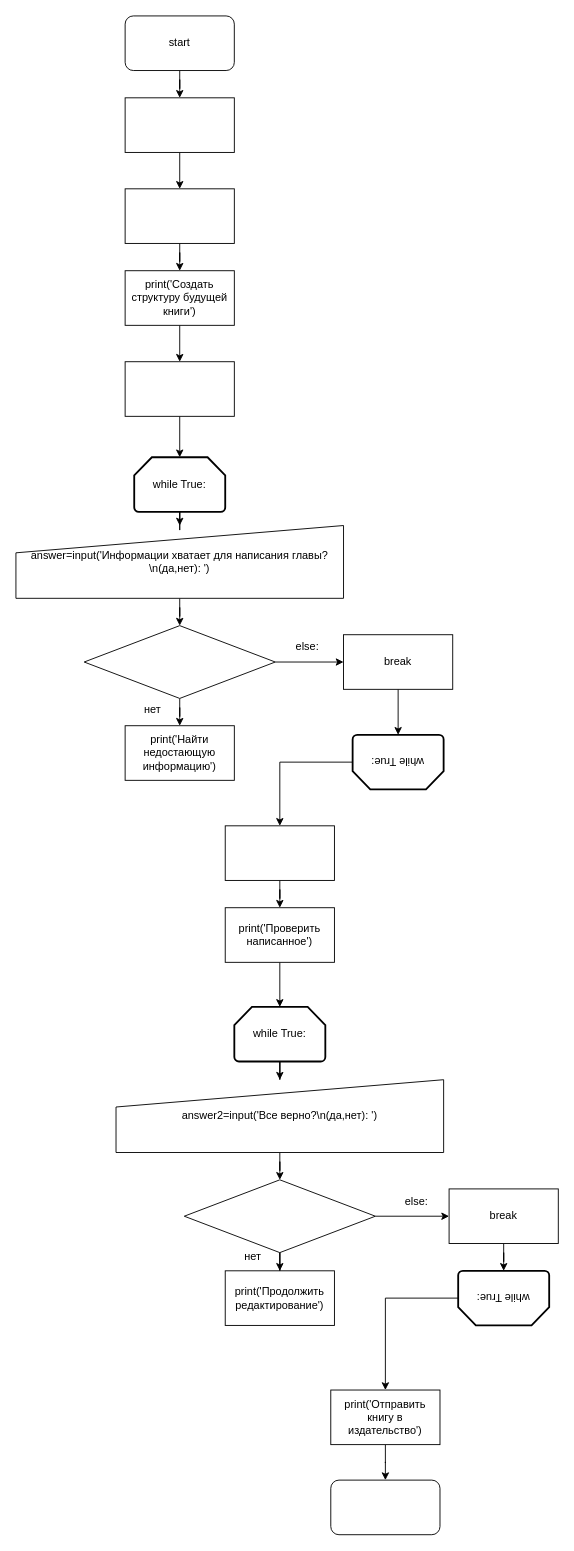
Some shapes in this 574 by 1551 pixel diagram are drawn without their labels. The centre of each missing label's shape, as x and y in pixels:
"if answer == 'нет': else:" belongs at pixel 179 661.
"if answer2 == 'нет': else:" belongs at pixel 279 1216.
"print('Выбрать тему для написания романа')" belongs at pixel 179 124.
"print('Найти всю необходимую информацию для написания романа')" belongs at pixel 179 215.
"print('Начать писать книгу')" belongs at pixel 179 388.
"print('Продолжить писать книгу')" belongs at pixel 279 852.
"stop" belongs at pixel 385 1507.
